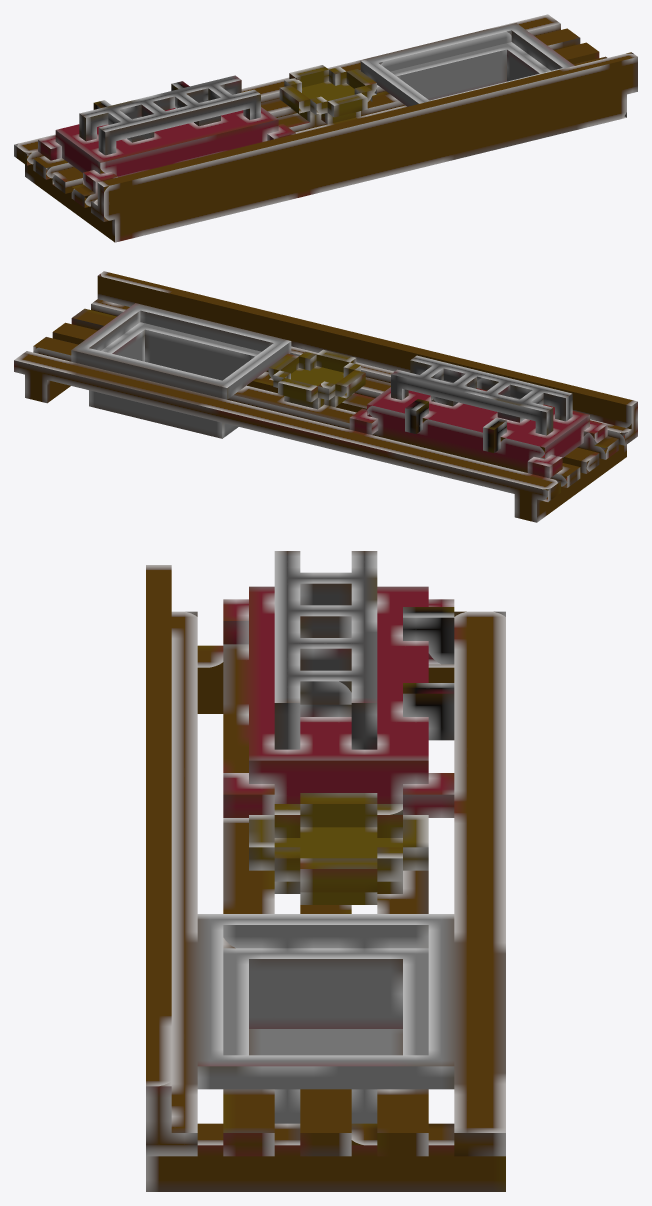
File: Pia.fbx
The picture shows the model from 3 angles, top to bottom: view 1: azimuth 30°, elevation 25°; view 2: azimuth 150°, elevation 25°; view 3: azimuth 270°, elevation 25°; orthographic projection. The views are drawn at different scales.
Visible parts, largest first — view 1: Pia.001; view 2: Pia.001; view 3: Pia.001.
Part boxes in pixels (<box>): Pia.001: <box>14,14,637,242</box>; Pia.001: <box>14,271,637,522</box>; Pia.001: <box>146,551,505,1191</box>.
Bounding box in the file's own units: 4.8 × 0.9 × 1.4.
Materials: 1 (1 with a texture image).
